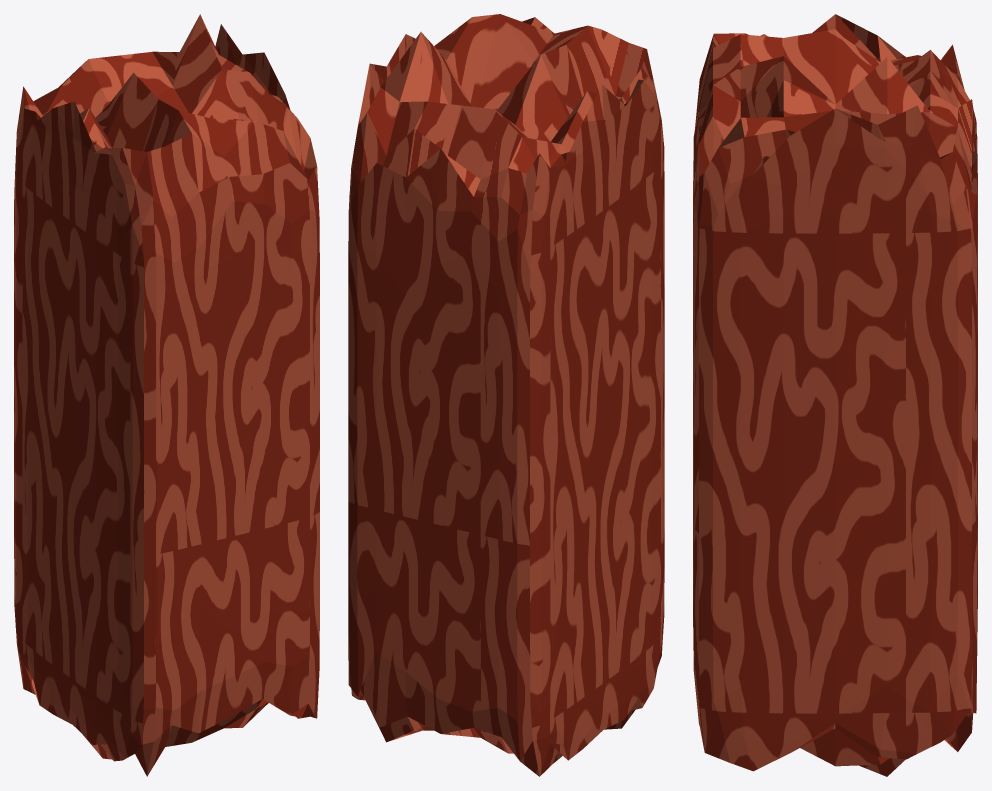
File: smallmeatcube.fbx
3 views of the same model, side by side, from view 1: azimuth 30°, elevation 25°; view 2: azimuth 150°, elevation 25°; view 3: azimuth 270°, elevation 25° (orthographic). The views are drawn at different scales.
Visible parts, largest first — view 1: Meat_block.002; view 2: Meat_block.002; view 3: Meat_block.002.
Boxes of the visible parts, x1,y1,x2,y2 form: Meat_block.002: [14, 14, 319, 776]; Meat_block.002: [348, 14, 664, 776]; Meat_block.002: [693, 14, 977, 776].
Size of the model in its own units: 64.79 by 216 by 78.66.
1 material, 1 textured.
